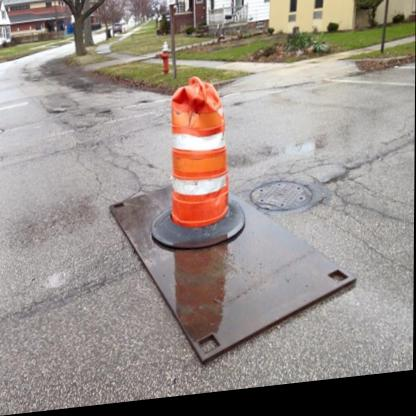obstacle: (163, 74, 236, 239)
